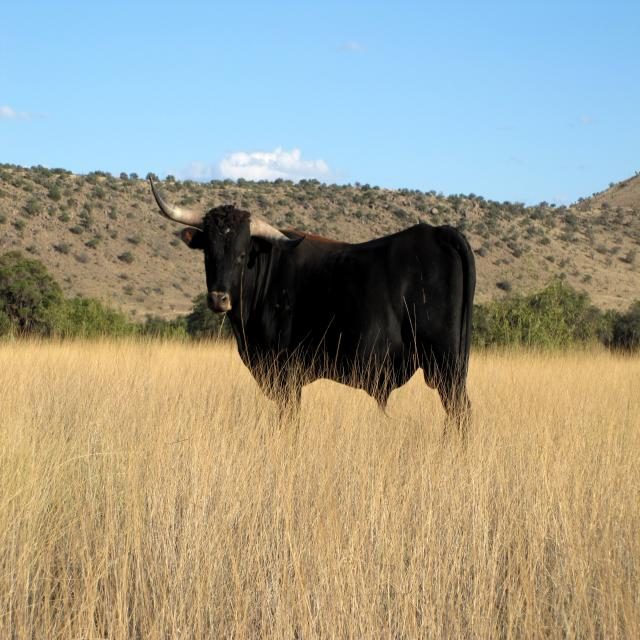cow: (150, 180, 475, 423)
